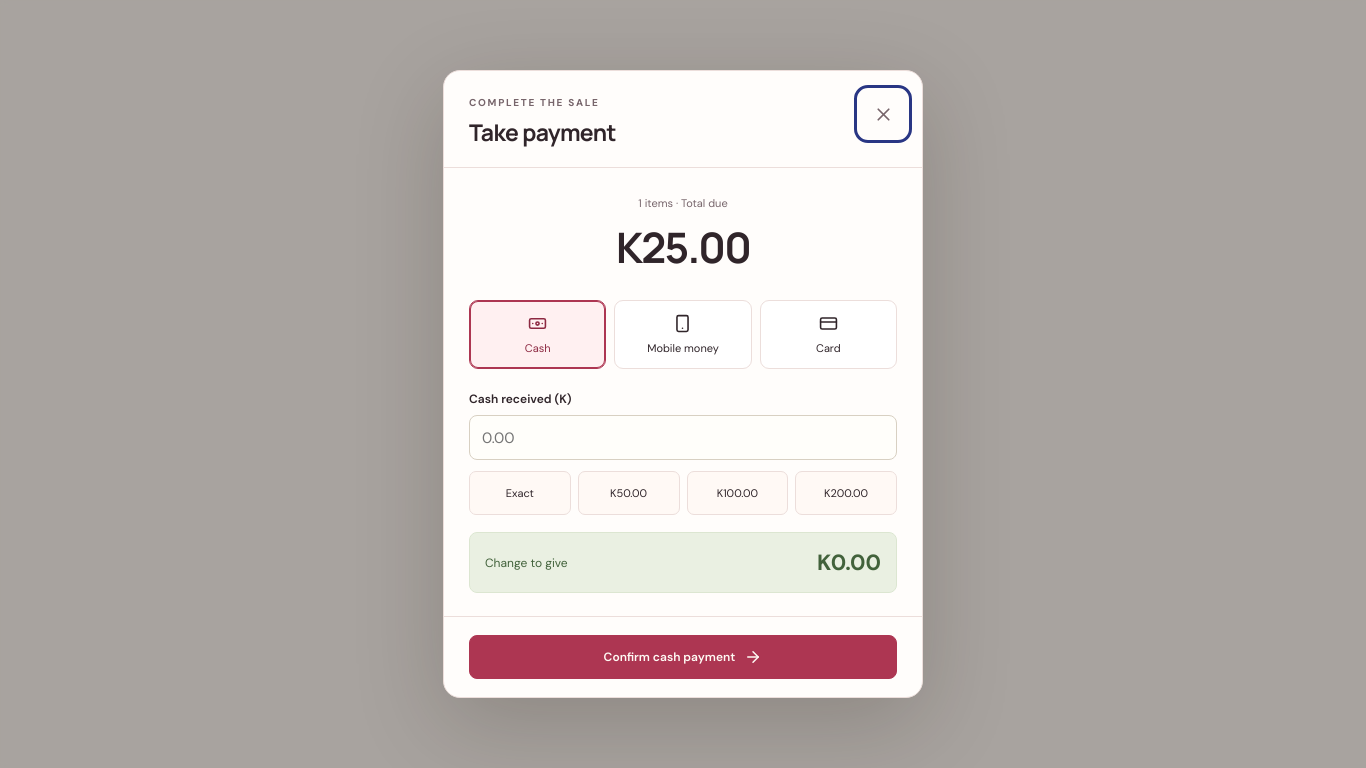
it: fast payment › submits Mobile money immediately with method only and blocks repeat taps
Check: the text "K25.00" is shown, box [616,218,750,276]
Click the button "Mobile money".
click(683, 334)  # box [614,300,752,369]
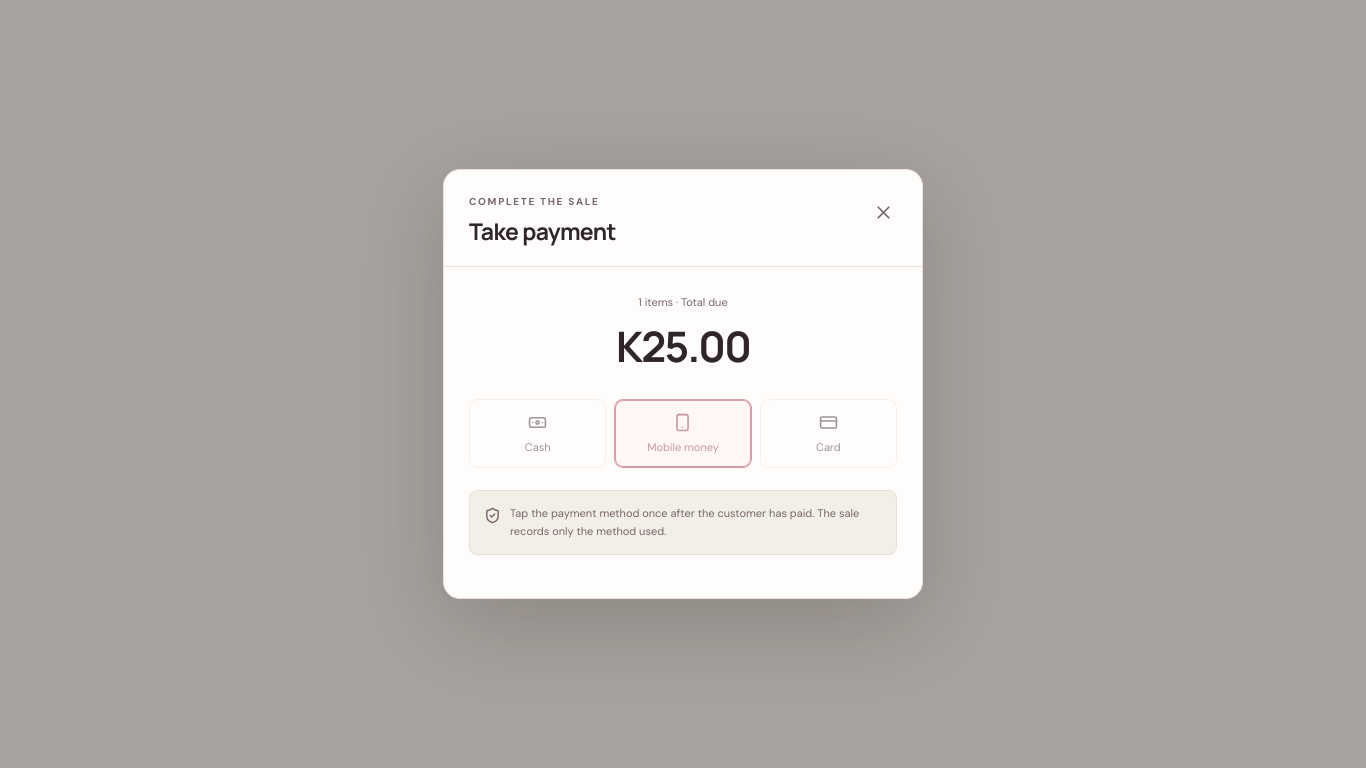
Check: the button "Cash" is disabled, box [469,399,606,468]
Check: the button "Mobile money" is disabled, box [614,399,752,468]
Check: the button "Card" is disabled, box [760,399,897,468]
